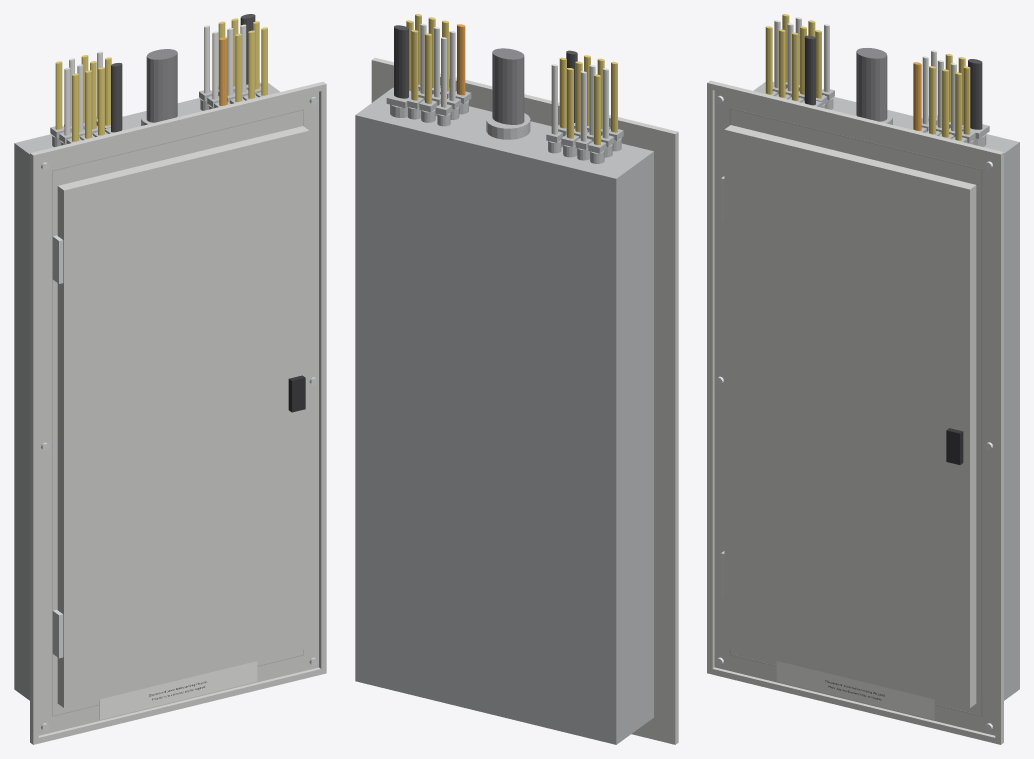
File: electric_panel.glb
The picture shows the model from 3 angles, left to right: view 1: azimuth 30°, elevation 25°; view 2: azimuth 150°, elevation 25°; view 3: azimuth 330°, elevation 25°; orthographic projection. The views are drawn at different scales.
Visible parts, largest first — view 1: panel_door, deadfront, panel_can, warning_label, service_entrance_cable, romex_hvac_jacket, romex_wh_jacket, romex_septic_jacket; view 2: panel_can, deadfront, service_entrance_cable, romex_ahu_jacket, romex_wh_jacket, romex_disposal_jacket, romex_softener_jacket, romex_bath_jacket, romex_gdo_jacket, romex_septic_jacket; view 3: panel_door, deadfront, panel_can, warning_label, service_entrance_cable, romex_ahu_jacket, romex_hvac_jacket, romex_wh_jacket, romex_kitchen_b_jacket, romex_washer_jacket, romex_dishwasher_jacket.
Part boxes in pixels (x1,y1,x2,y2): panel_door: (52,126,309,707); deadfront: (30,81,326,744); panel_can: (14,83,303,716); warning_label: (99,661,257,719); service_entrance_cable: (141,49,182,125); romex_hvac_jacket: (111,63,122,132); romex_wh_jacket: (219,37,227,105); romex_septic_jacket: (55,61,62,129); panel_can: (355,87,653,744); deadfront: (371,57,678,744); service_entrance_cable: (486,48,530,139); romex_ahu_jacket: (394,25,408,98); romex_wh_jacket: (457,24,465,95); romex_disposal_jacket: (559,57,566,128); romex_softener_jacket: (411,30,418,100); romex_bath_jacket: (566,68,573,138); romex_gdo_jacket: (424,33,431,103); romex_septic_jacket: (593,74,600,144); panel_door: (721,125,976,707); deadfront: (707,80,1003,744); panel_can: (729,82,1019,716); warning_label: (776,661,934,719); service_entrance_cable: (851,48,892,124); romex_ahu_jacket: (968,59,982,129); romex_hvac_jacket: (804,35,815,105); romex_wh_jacket: (913,62,921,130); romex_kitchen_b_jacket: (778,29,785,97); romex_washer_jacket: (963,66,970,134); romex_dishwasher_jacket: (765,26,772,94).
Size of the model in its own units: 0.428 by 0.907 by 0.125.
